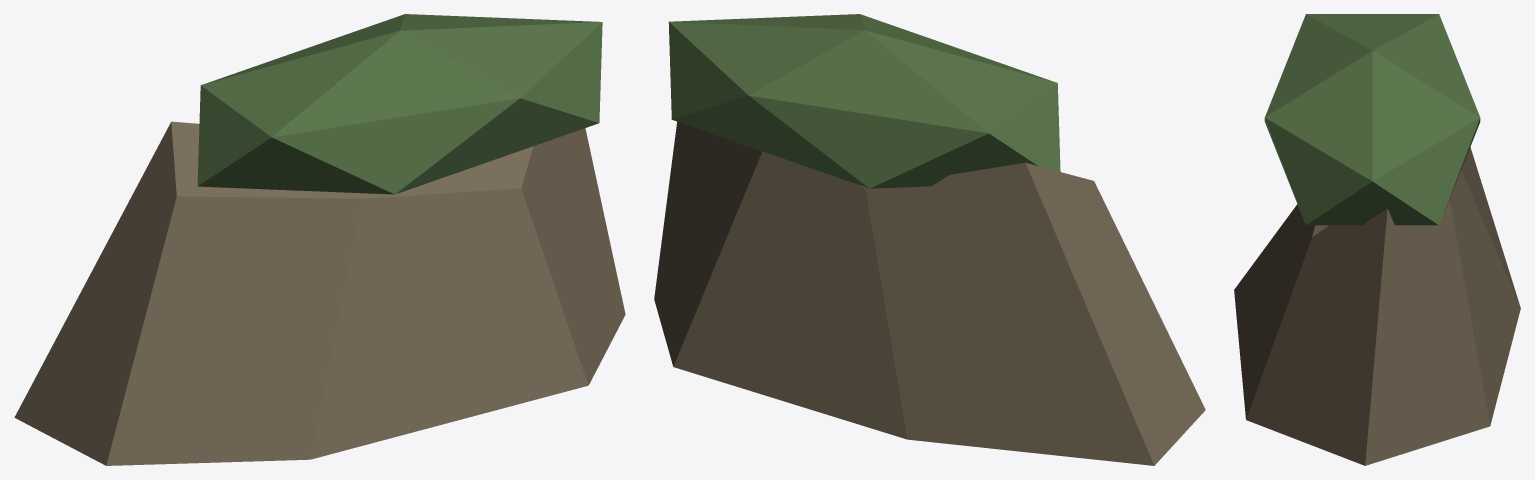
File: map-boundaries-v5__village_03.glb
3 renders of one model, left to right at view 1: azimuth 30°, elevation 25°; view 2: azimuth 150°, elevation 25°; view 3: azimuth 270°, elevation 25°, orthographic. The views are drawn at different scales.
Parts seen in each view (by area): view 1: village_03; view 2: village_03; view 3: village_03.
Part boxes in pixels (left/top/right/bottom): village_03: left=14, top=14, right=625, bottom=465; village_03: left=654, top=14, right=1205, bottom=465; village_03: left=1234, top=14, right=1520, bottom=465.
Bounding box in the file's own units: 1.44 × 0.82 × 0.6791.
